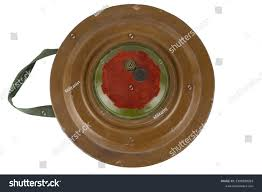car: (2, 1, 223, 177)
